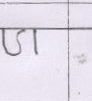aa_matra: (34, 30, 37, 53)
